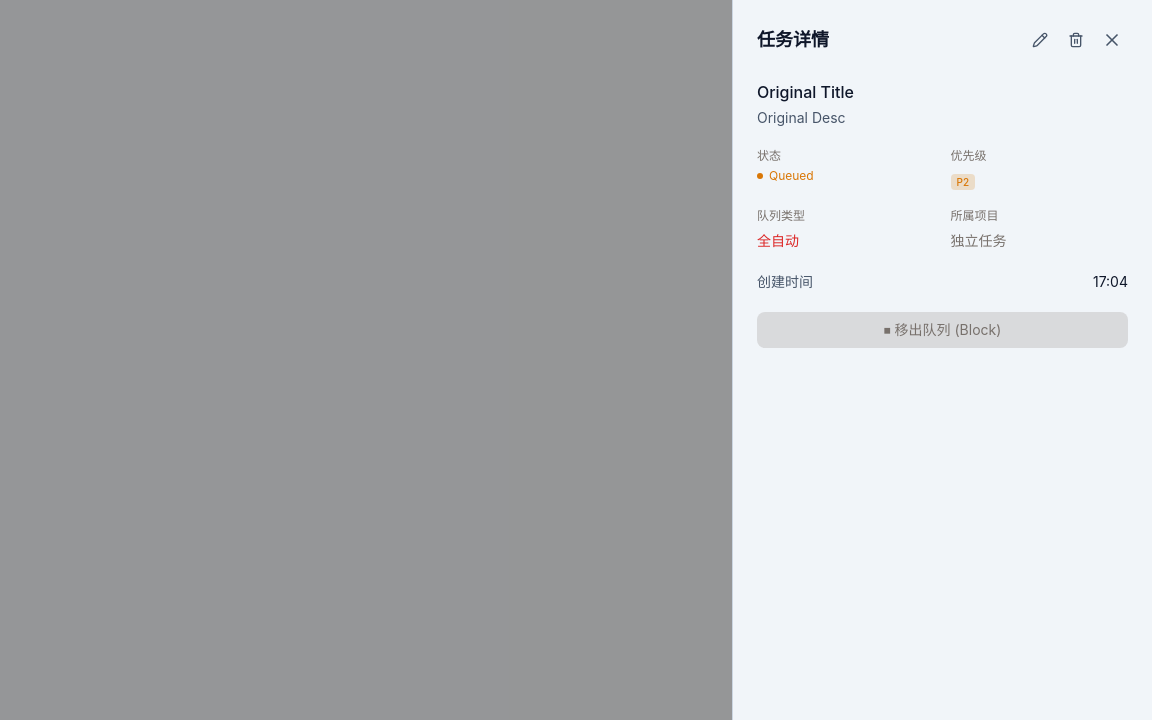
Test case: TaskDrawer edit › saves title and status changes to the store
Expected: the heading "Original Title" is shown, left=757, top=82, right=854, bottom=102
Note: Click edit button
Click the button titled "编辑" at (1040, 40), box left=1024, top=24, right=1056, bottom=56
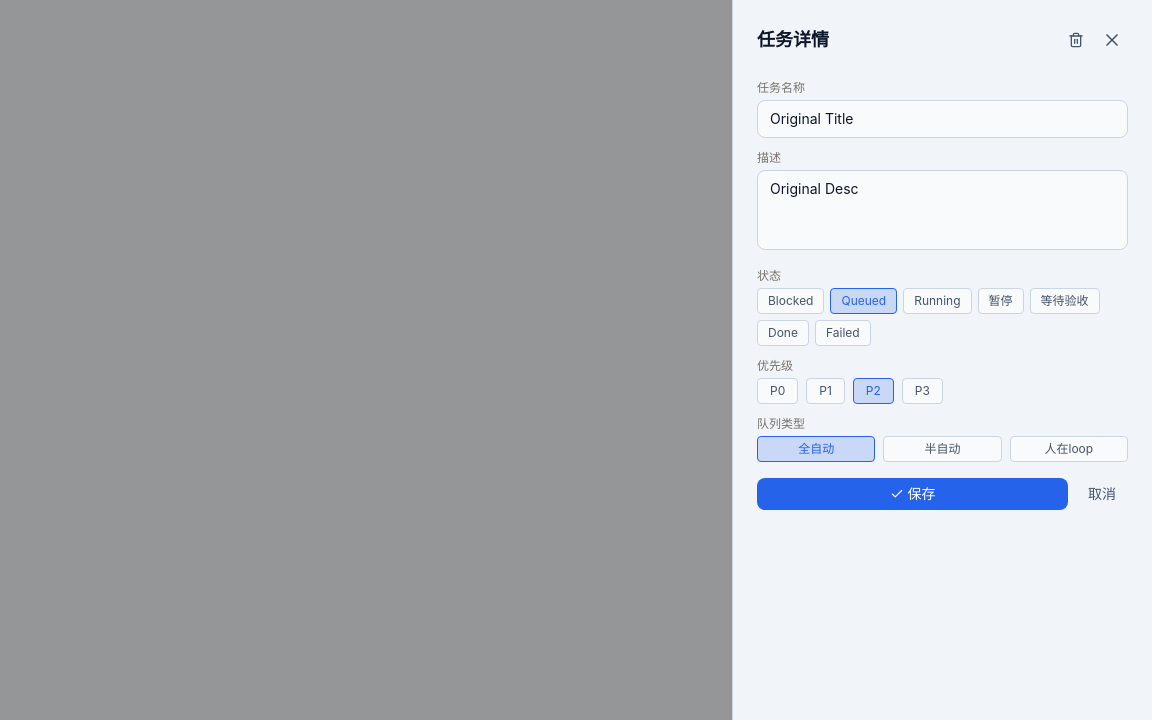
Note: Change title
Replace the text in the field showing "Original Title" with "New Title" at (942, 119), box left=757, top=100, right=1128, bottom=138
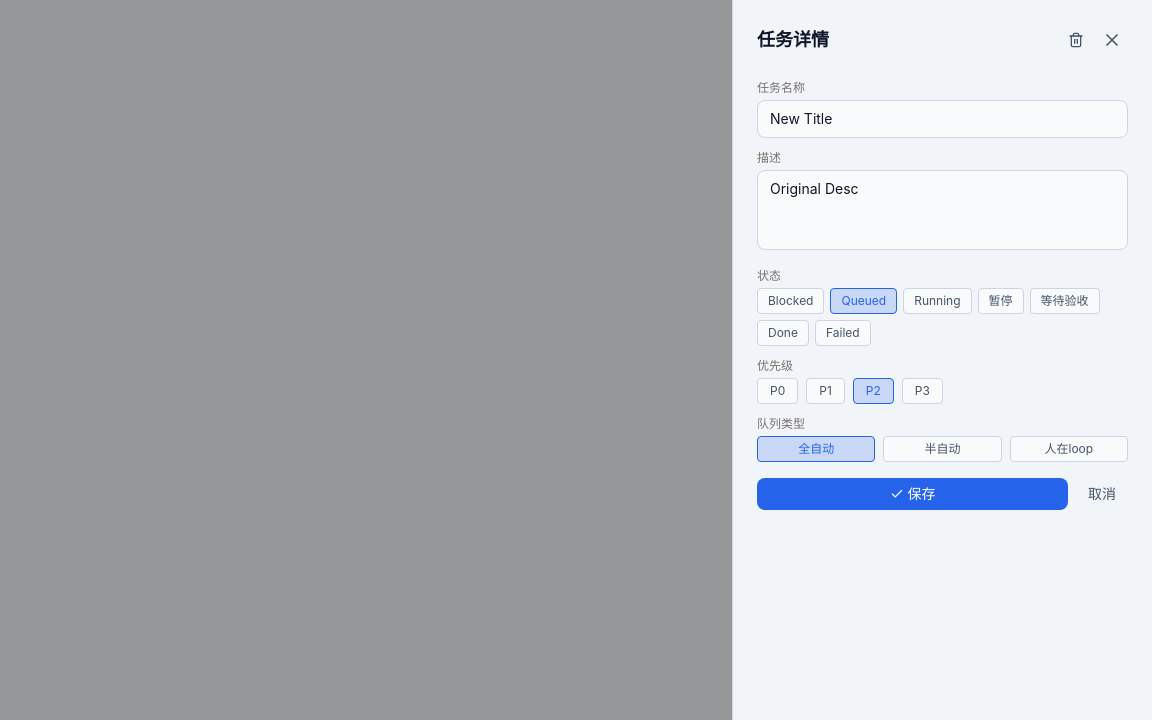
Note: Click save button
Click the button "保存" at (912, 494), box left=757, top=478, right=1068, bottom=510
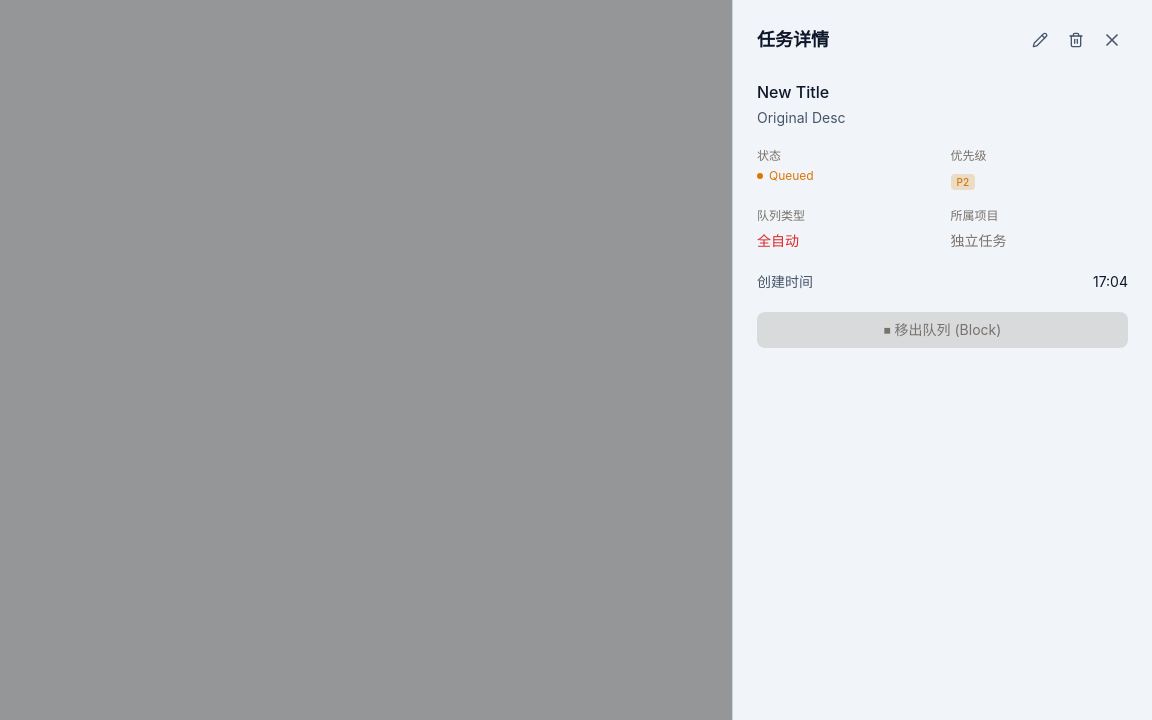
Expected: the heading "New Title" is shown, left=757, top=82, right=829, bottom=102
